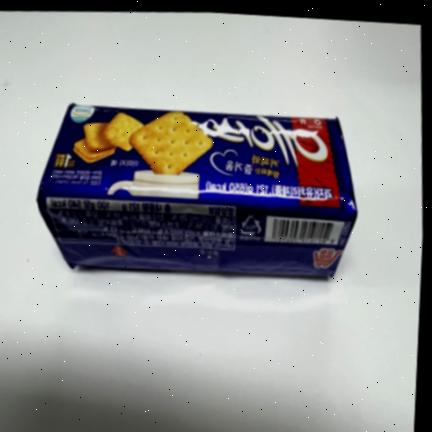cracker_ace: (35, 104, 359, 279)
